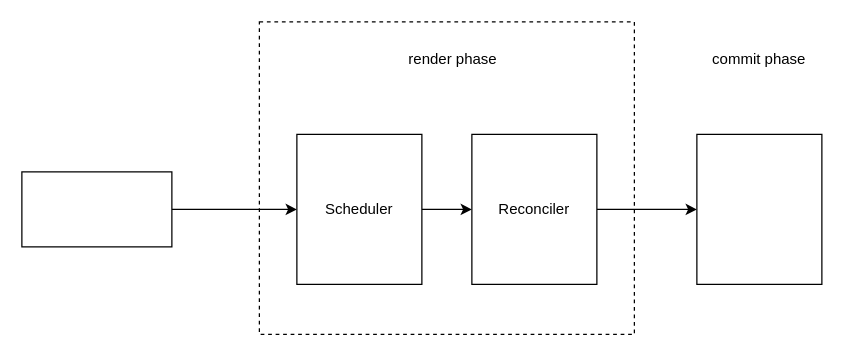
The diagram is 850 pixels wide and 356 high, and some of its shapes have lost their labels. The shapes that lost their labels are listed below. From the top down, each one's centre as x and y in pixels, then its label:
At point 96,209: "mount / update".
At point 759,208: "Renderer".
